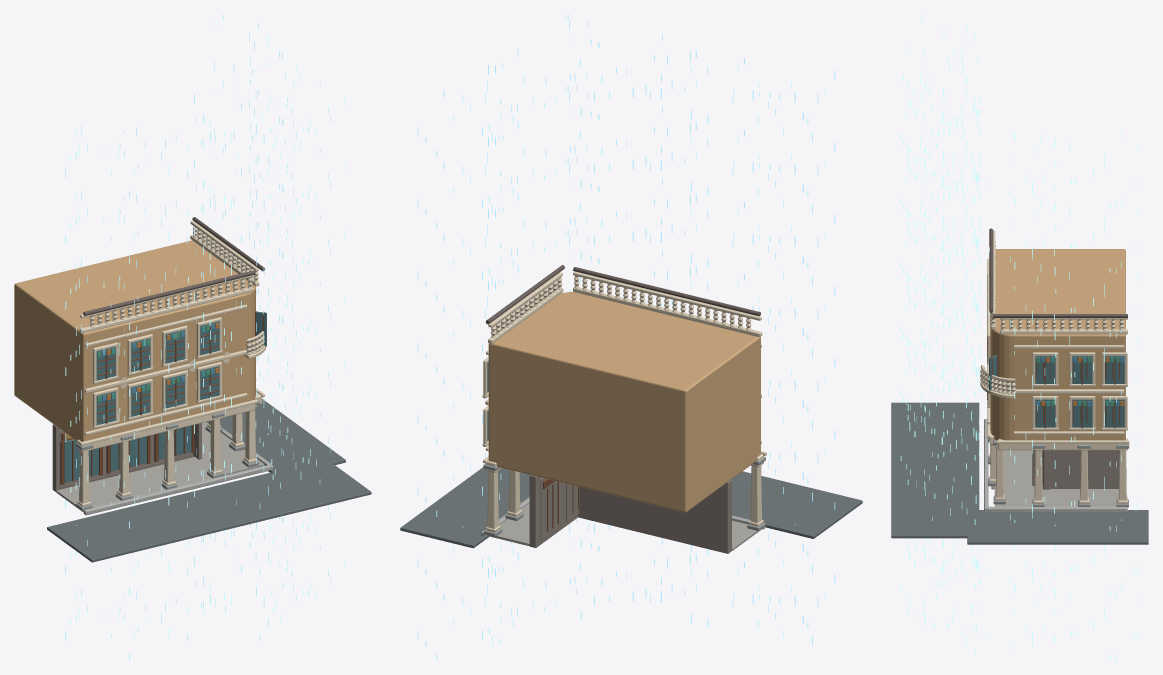
The model's file is xiguan-qilou.glb.
3 renders of one model, left to right at view 1: azimuth 30°, elevation 25°; view 2: azimuth 150°, elevation 25°; view 3: azimuth 270°, elevation 25°, orthographic. The views are drawn at different scales.
Parts seen in each view (by area): view 1: Qilou_Upper_Mass, Street_Surface, Rain_Field, Street_Surface_Side, Arcade_Walkway, Front_Curb, Arcade_Walkway_Side, Front_Entablature_Deep, Front_Parapet_Base, Front_Recessed_Wall, Front_Cornice_7.73, ShopFront_1_Glass (+9 smaller); view 2: Qilou_Upper_Mass, Front_Recessed_Wall, Rain_Field, Street_Surface, Street_Surface_Side, SideShop_2_Shadow, Front_Parapet_Base, Side_Recessed_Wall, Front_Parapet_Rail, Arcade_Walkway_Side; view 3: Qilou_Upper_Mass, Street_Surface, Rain_Field, Street_Surface_Side, Side_Recessed_Wall, Arcade_Walkway_Side, Arcade_Walkway, Side_Curb, Side_Entablature_Deep, Side_Parapet_Base, Side_Cornice_7.73, Side_Entablature_Line (+13 smaller).
Part boxes in pixels (x1,y1,x2,y2): Qilou_Upper_Mass: [14, 240, 255, 441]; Street_Surface: [47, 463, 371, 562]; Rain_Field: [65, 14, 344, 660]; Street_Surface_Side: [220, 399, 345, 475]; Arcade_Walkway: [56, 457, 212, 511]; Front_Curb: [83, 464, 273, 515]; Arcade_Walkway_Side: [194, 422, 264, 475]; Front_Entablature_Deep: [77, 400, 255, 451]; Front_Parapet_Base: [79, 287, 253, 333]; Front_Recessed_Wall: [52, 424, 193, 491]; Front_Cornice_7.73: [84, 349, 246, 393]; ShopFront_1_Glass: [64, 439, 98, 482]; Qilou_Upper_Mass: [488, 292, 760, 512]; Front_Recessed_Wall: [578, 479, 731, 553]; Rain_Field: [417, 14, 835, 660]; Street_Surface: [731, 471, 862, 538]; Street_Surface_Side: [400, 467, 529, 548]; SideShop_2_Shadow: [540, 477, 563, 541]; Front_Parapet_Base: [573, 287, 762, 337]; Side_Recessed_Wall: [529, 475, 577, 547]; Front_Parapet_Rail: [573, 271, 761, 320]; Arcade_Walkway_Side: [487, 503, 565, 547]; Qilou_Upper_Mass: [990, 249, 1125, 440]; Street_Surface: [891, 402, 979, 538]; Rain_Field: [900, 14, 1137, 660]; Street_Surface_Side: [967, 510, 1148, 544]; Side_Recessed_Wall: [1043, 450, 1119, 488]; Arcade_Walkway_Side: [994, 486, 1118, 506]; Arcade_Walkway: [991, 450, 1034, 489]; Side_Curb: [988, 506, 1127, 511]; Side_Entablature_Deep: [998, 438, 1127, 450]; Side_Parapet_Base: [1000, 329, 1127, 334]; Side_Cornice_7.73: [1015, 389, 1124, 393]; Side_Entablature_Line: [996, 440, 1129, 443].
Bounding box in the file's own units: 19.5 × 34.05 × 15.2.
